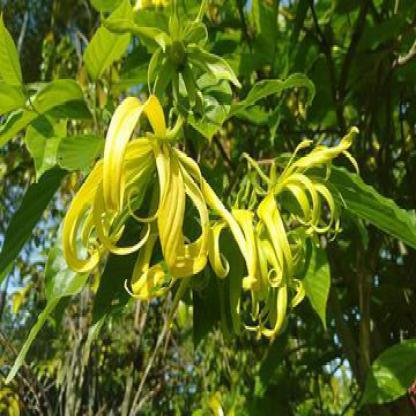Kenanga: (241, 121, 351, 304), (103, 95, 200, 263)
